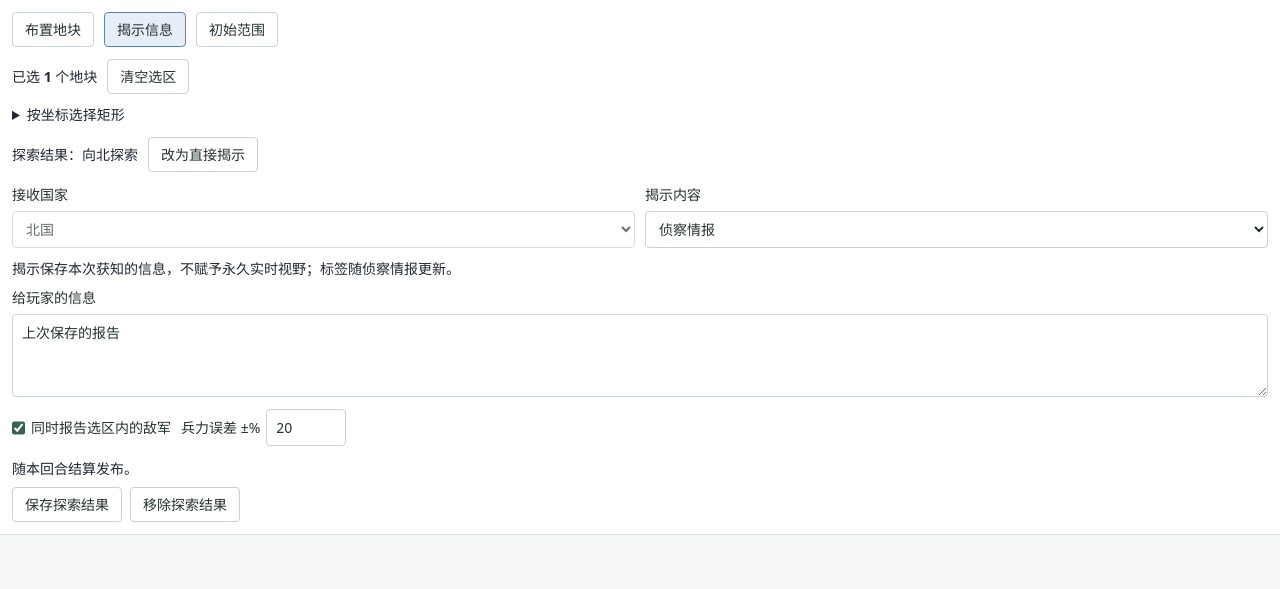
it: map editing and reveal workflow › loads an existing policy reveal and saves it as a staged result
Expected: the button "保存探索结果" is enabled, top-left (12, 487), bottom-right (122, 522)
Expected: the dropdown labelled "接收国家" is disabled, top-left (12, 211), bottom-right (635, 248)
Replace the text in the text box labelled "给玩家的信息" with "找到一座要塞" at (640, 356), box top-left (12, 314), bottom-right (1268, 397)
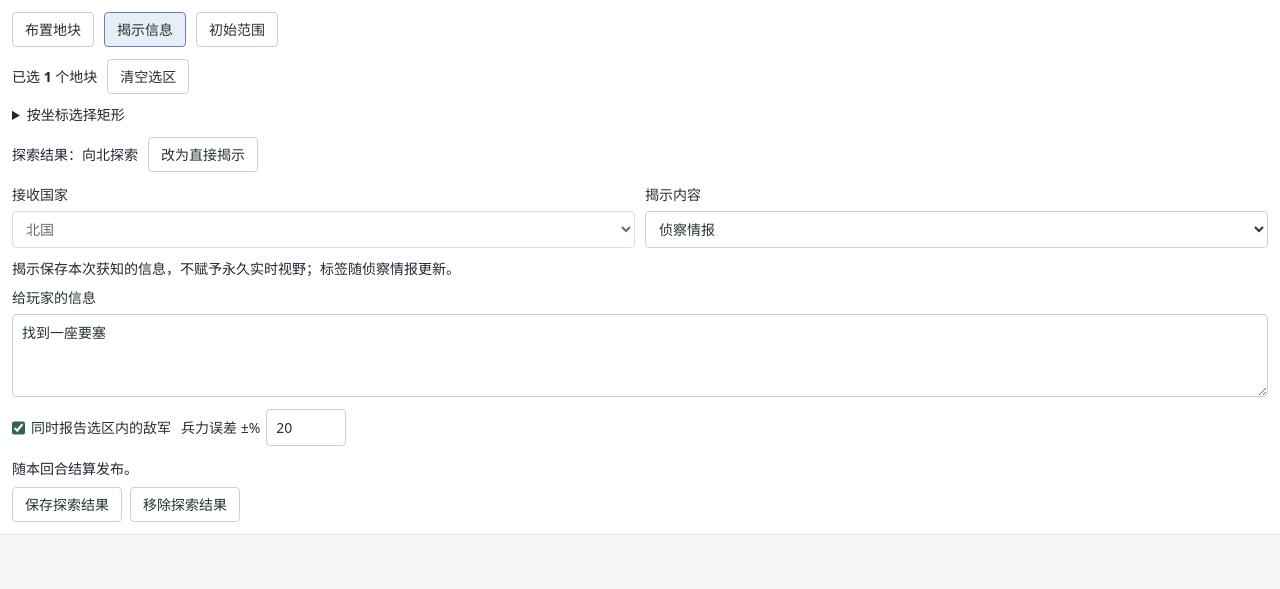
Click the button "保存探索结果" at (67, 505), box top-left (12, 487), bottom-right (122, 522)
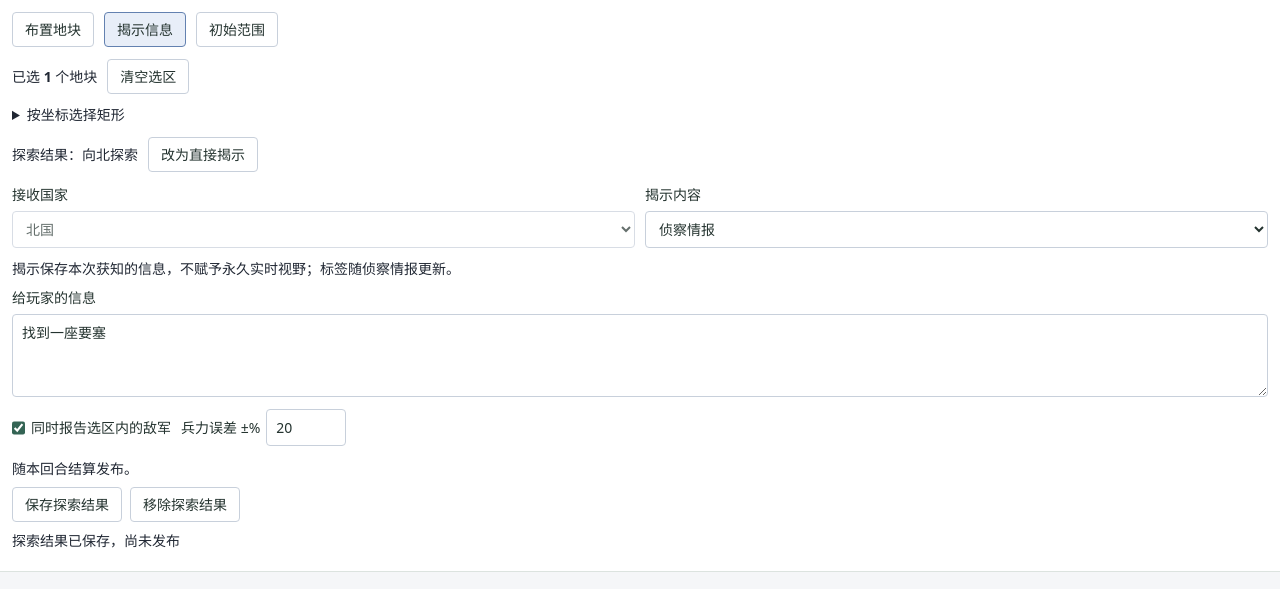
Result: the text "探索结果已保存，尚未发布" is shown at top-left (12, 531), bottom-right (180, 550)
